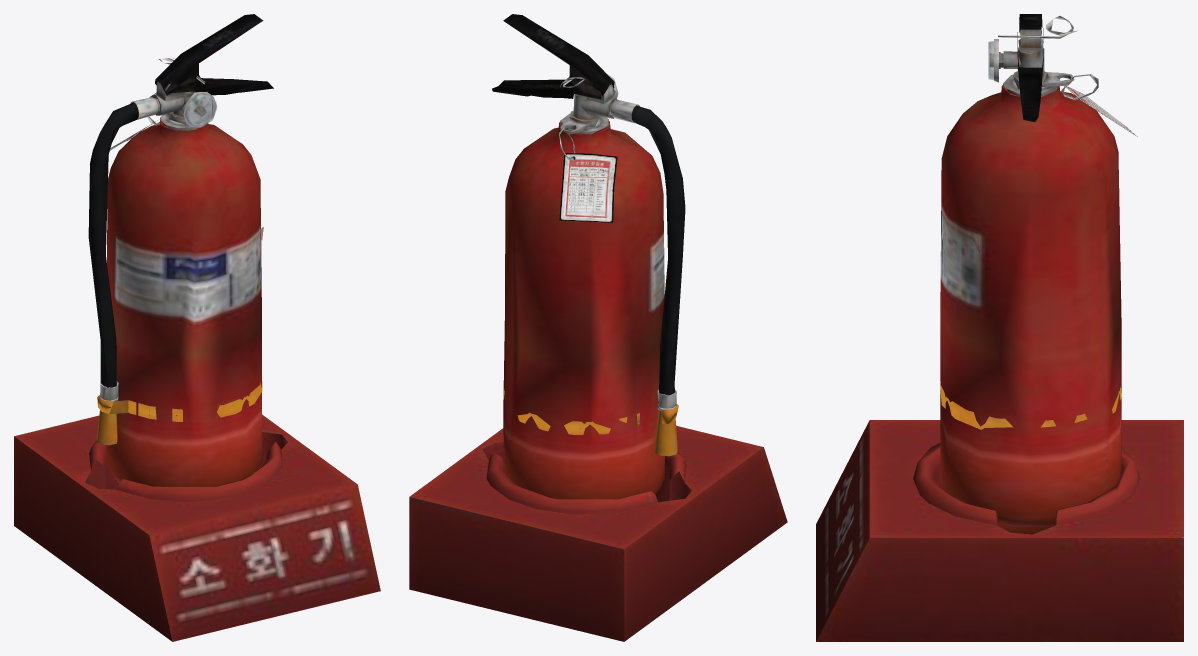
The model's file is korean_fire_extinguisher_01.gltf.
3 renders of one model, left to right at view 1: azimuth 30°, elevation 25°; view 2: azimuth 150°, elevation 25°; view 3: azimuth 270°, elevation 25°, orthographic. The views are drawn at different scales.
Parts seen in each view (by area): view 1: korean_fire_extinguisher_01; view 2: korean_fire_extinguisher_01; view 3: korean_fire_extinguisher_01.
Boxes of the visible parts, bbox=[...] form: korean_fire_extinguisher_01: bbox=[14, 14, 380, 641]; korean_fire_extinguisher_01: bbox=[409, 14, 787, 641]; korean_fire_extinguisher_01: bbox=[816, 14, 1183, 641].
Bounding box in the file's own units: 0.279 × 0.6581 × 0.3674.
3 materials, 3 textured.
